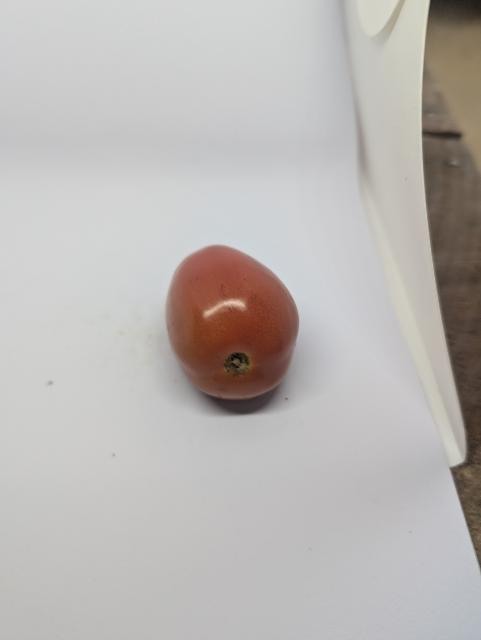red: (158, 239, 310, 427)
